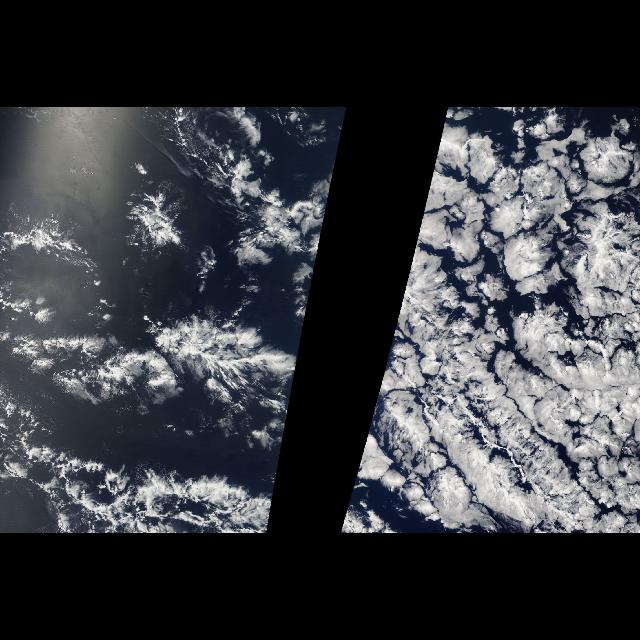Fish: (2, 291, 292, 533)
Flower: (389, 115, 636, 352)
